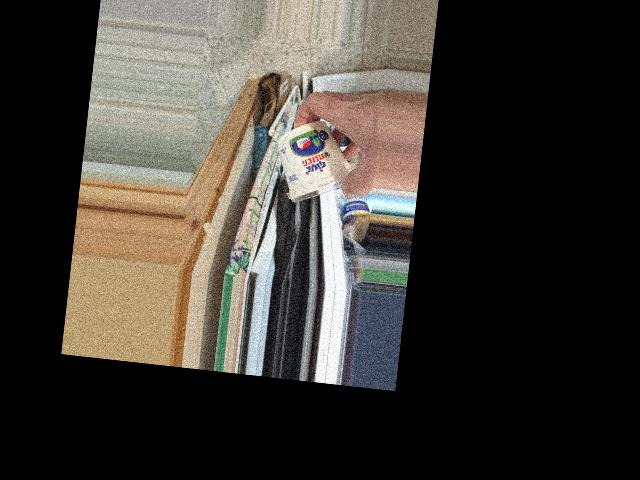cotage: (271, 120, 352, 210)
